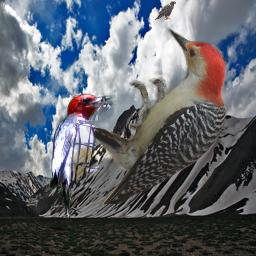Crow: (154, 1, 176, 21)
Woodpecker: (86, 27, 233, 204), (50, 93, 116, 222)
